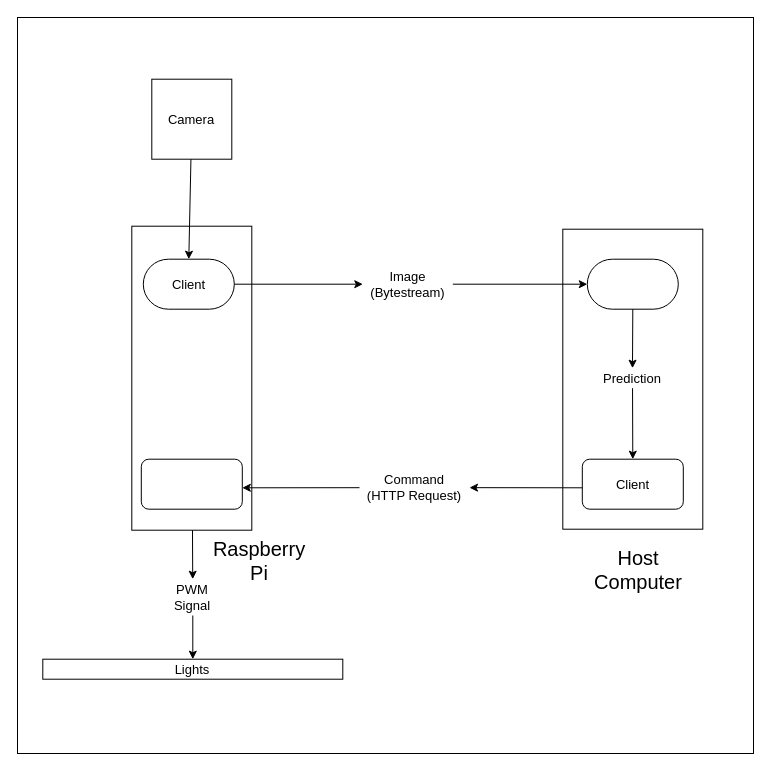
Some shapes in this 771 by 771 pixel diagram are drawn without their labels. The centre of each missing label's shape, as x and y in pixels:
"Lighting Server" goes at [191,483].
"MTCNN Server" goes at [632,283].
